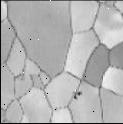good_void: (71, 95, 76, 99), (75, 91, 80, 95)
